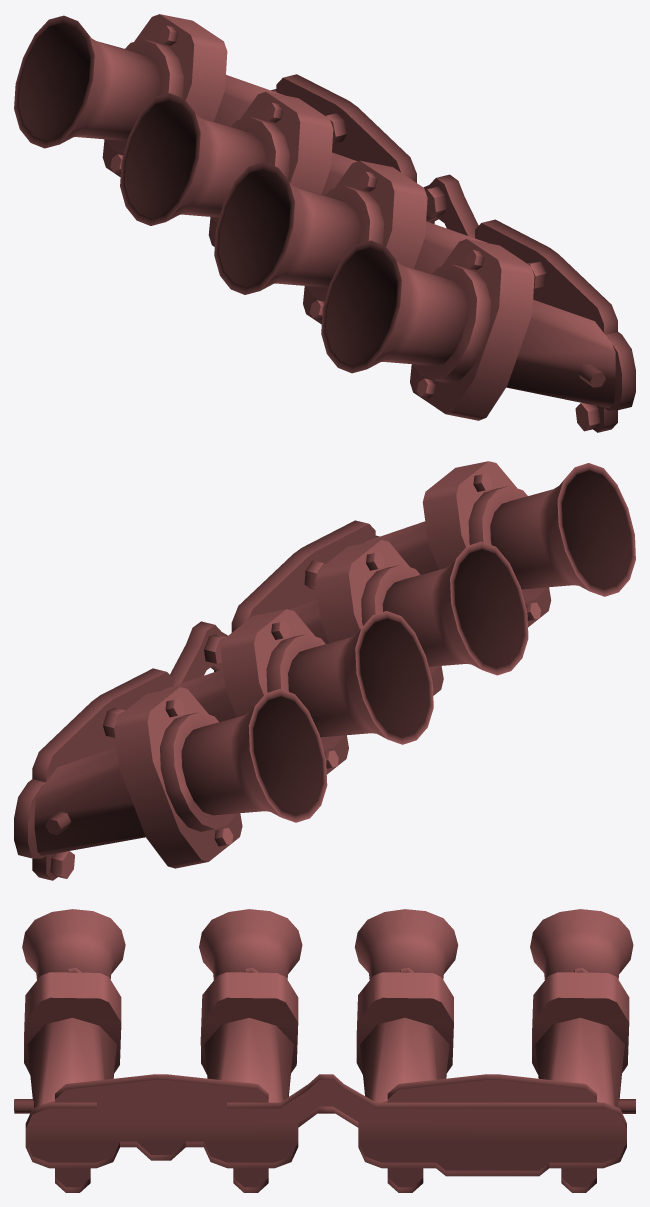
File: BP_Intake2.fbx
3 views of the same model, one above another, from view 1: azimuth 30°, elevation 25°; view 2: azimuth 150°, elevation 25°; view 3: azimuth 270°, elevation 25° (orthographic). The views are drawn at different scales.
Visible parts, largest first — view 1: BP_Intake2; view 2: BP_Intake2; view 3: BP_Intake2.
Boxes of the visible parts, x1,y1,x2,y2 form: BP_Intake2: (14, 14, 635, 432); BP_Intake2: (14, 461, 635, 880); BP_Intake2: (14, 909, 635, 1192).
Bounding box in the file's own units: 20.06 × 16.79 × 48.76.
